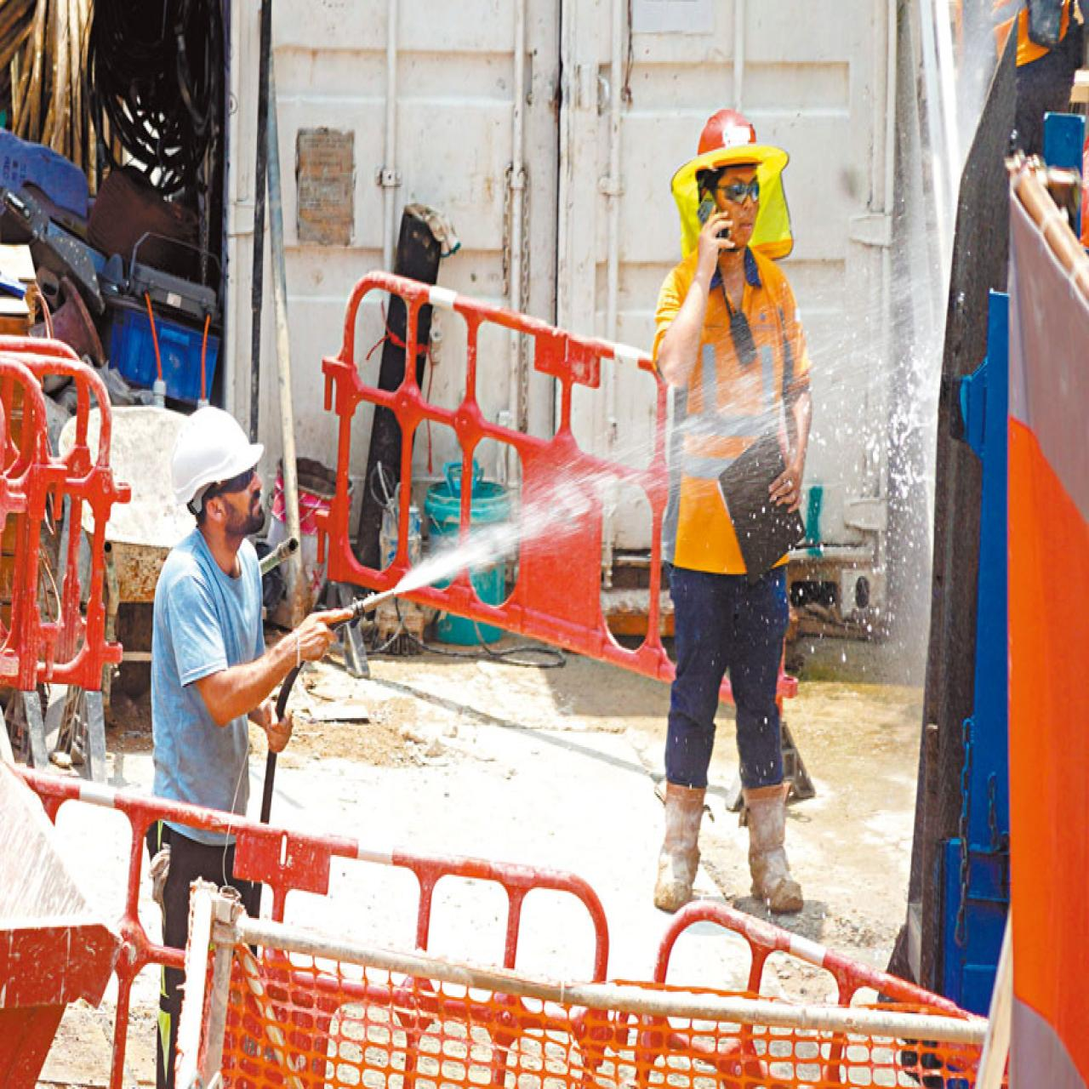NO_Safety_Vest: (657, 250, 808, 574), (150, 529, 281, 838)
Person: (111, 379, 331, 1089), (633, 104, 817, 910)
